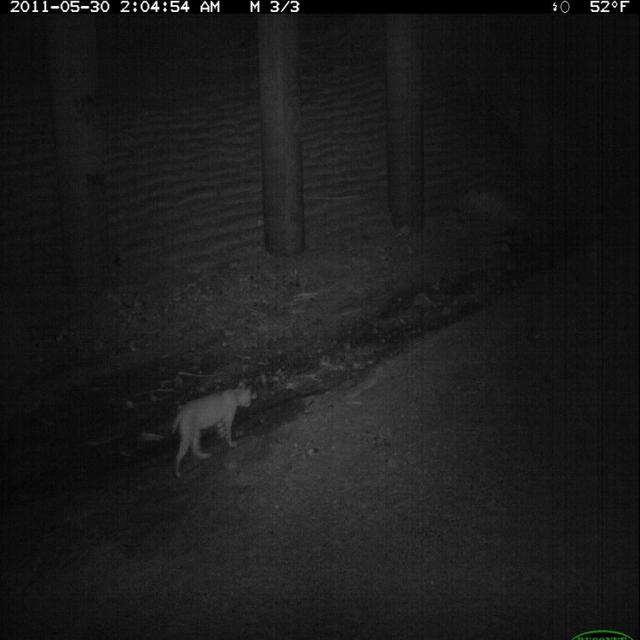bobcat: (168, 374, 258, 483)
